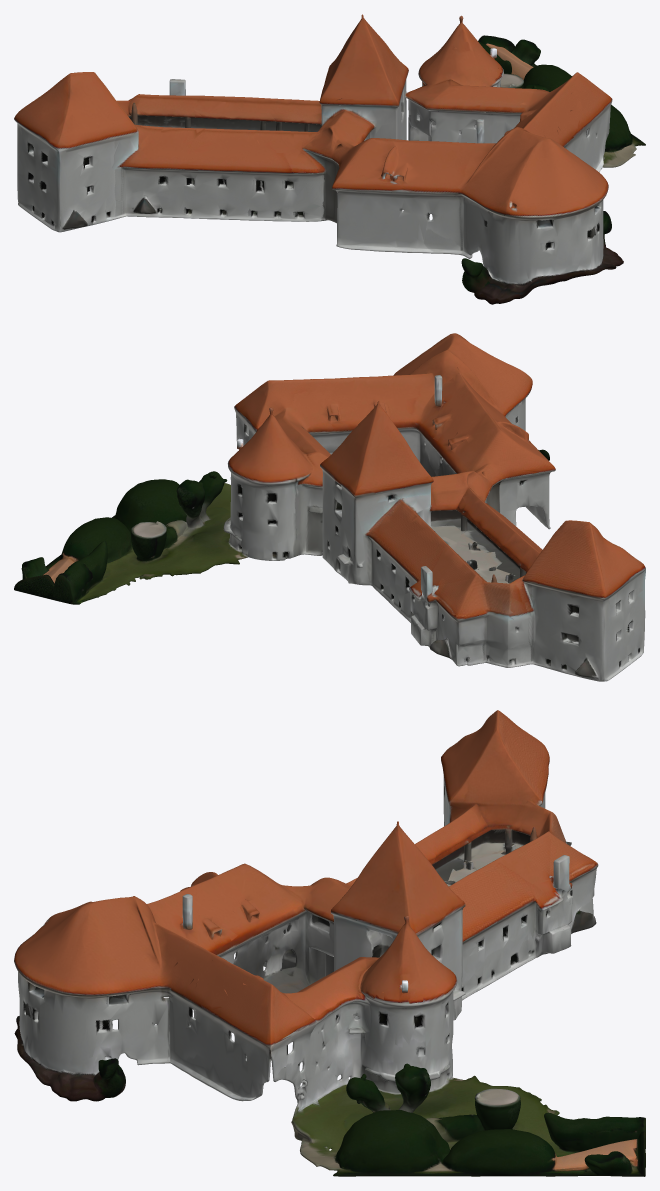
The model's file is stari_grad_ispravna_tekstura_60k.glb.
3 renders of one model, top to bottom at view 1: azimuth 30°, elevation 25°; view 2: azimuth 150°, elevation 25°; view 3: azimuth 270°, elevation 25°, orthographic. The views are drawn at different scales.
Parts seen in each view (by area): view 1: Mesh_0; view 2: Mesh_0; view 3: Mesh_0.
Boxes of the visible parts, left/top/right/bottom form: Mesh_0: left=14, top=14, right=645, bottom=304; Mesh_0: left=14, top=333, right=645, bottom=681; Mesh_0: left=14, top=710, right=645, bottom=1176.
Size of the model in its own units: 1 by 0.3084 by 0.8364.
1 material, 1 textured.
